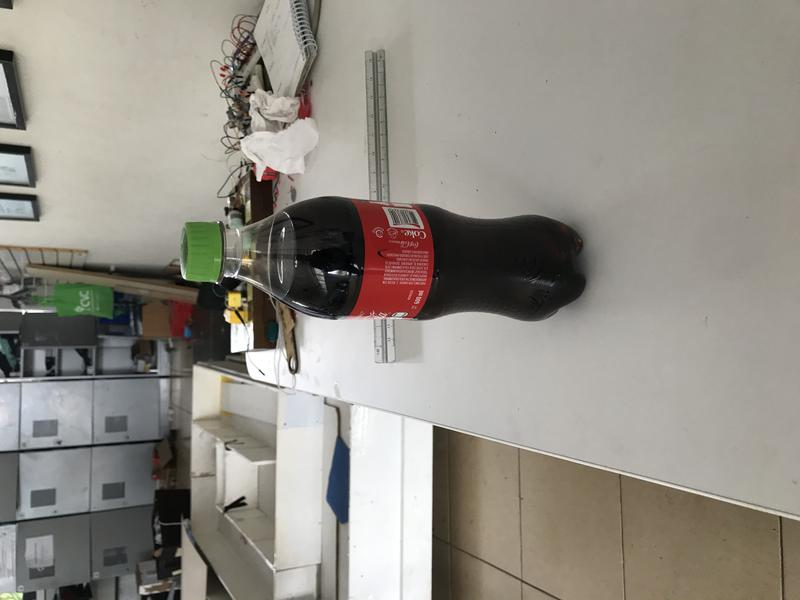coca_cola: (177, 197, 587, 324)
